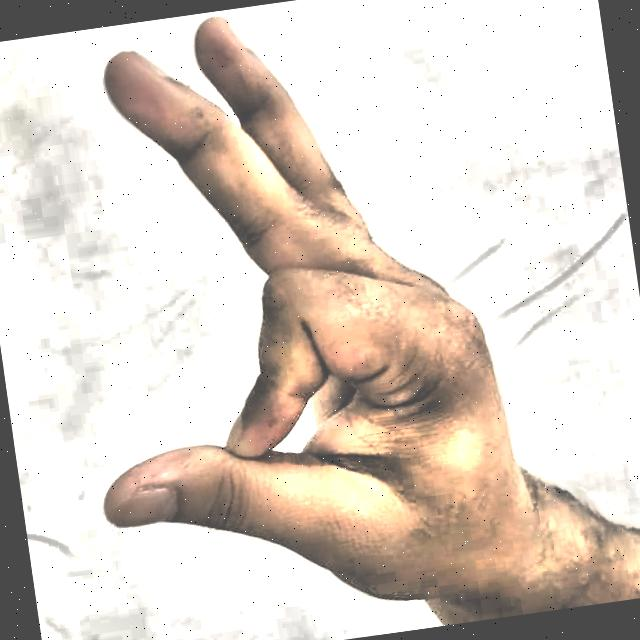Uo: (0, 0, 581, 640)
